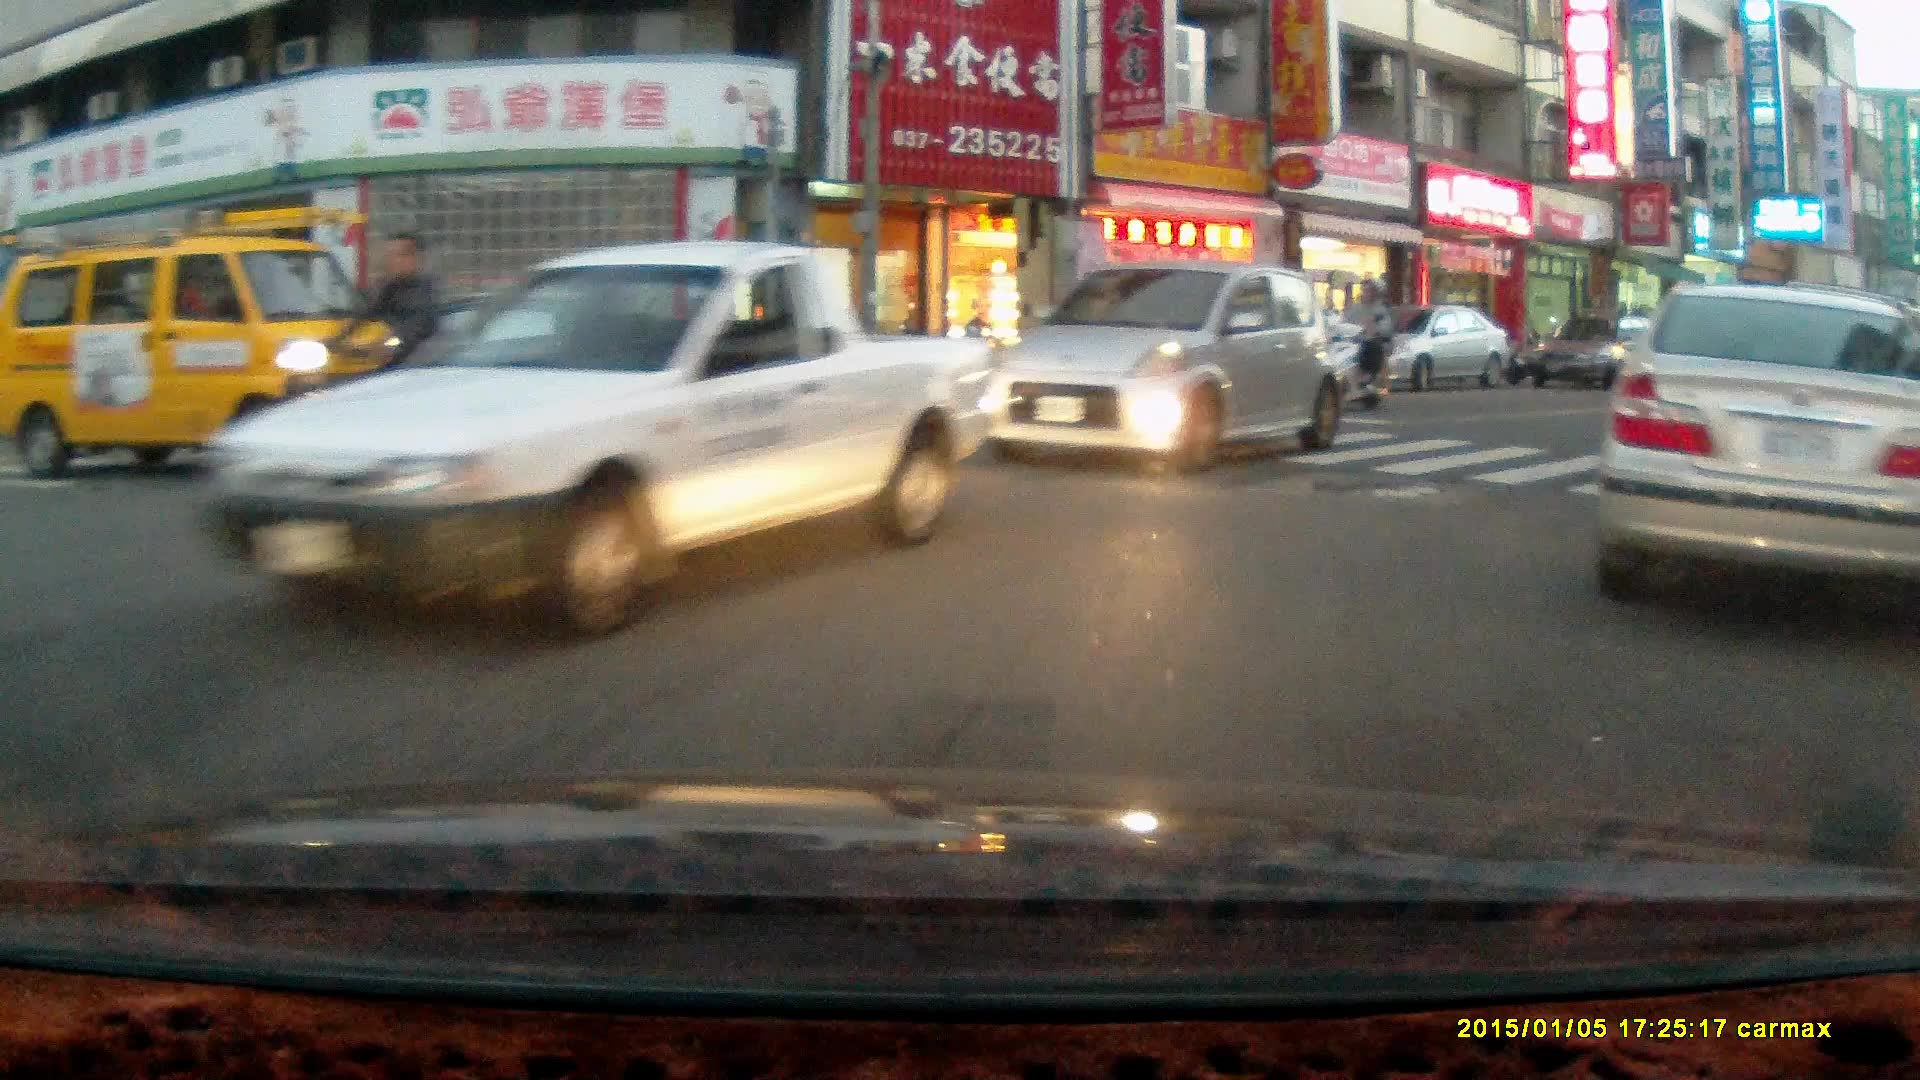rider: (284, 228, 505, 491), (1325, 270, 1394, 414)
vehicle: (165, 236, 998, 650), (1, 204, 429, 481), (1603, 280, 1909, 639), (975, 260, 1347, 475), (1361, 304, 1510, 389), (1522, 314, 1654, 388)
